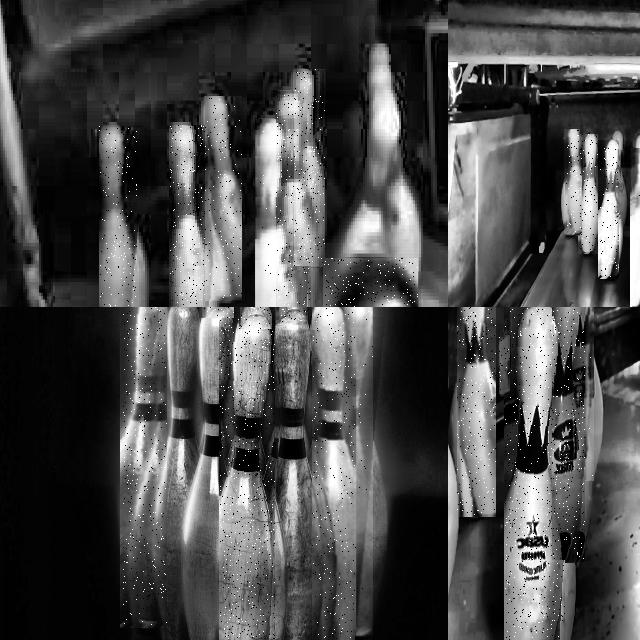bowling-ball: (329, 258, 417, 307)
bowling-pins: (505, 307, 565, 640), (220, 307, 274, 640), (181, 307, 235, 640), (272, 307, 324, 640), (149, 307, 199, 640), (312, 307, 354, 640), (123, 307, 166, 625), (342, 307, 372, 634), (457, 307, 496, 516), (553, 307, 585, 560), (276, 91, 310, 307), (170, 125, 210, 307), (206, 96, 241, 299), (99, 125, 137, 307), (258, 119, 293, 307), (294, 69, 324, 266), (573, 307, 591, 479), (600, 140, 619, 277), (580, 134, 598, 253), (612, 130, 627, 224), (566, 129, 579, 232), (633, 150, 640, 307), (240, 307, 271, 329), (499, 338, 509, 393), (278, 307, 307, 321)
